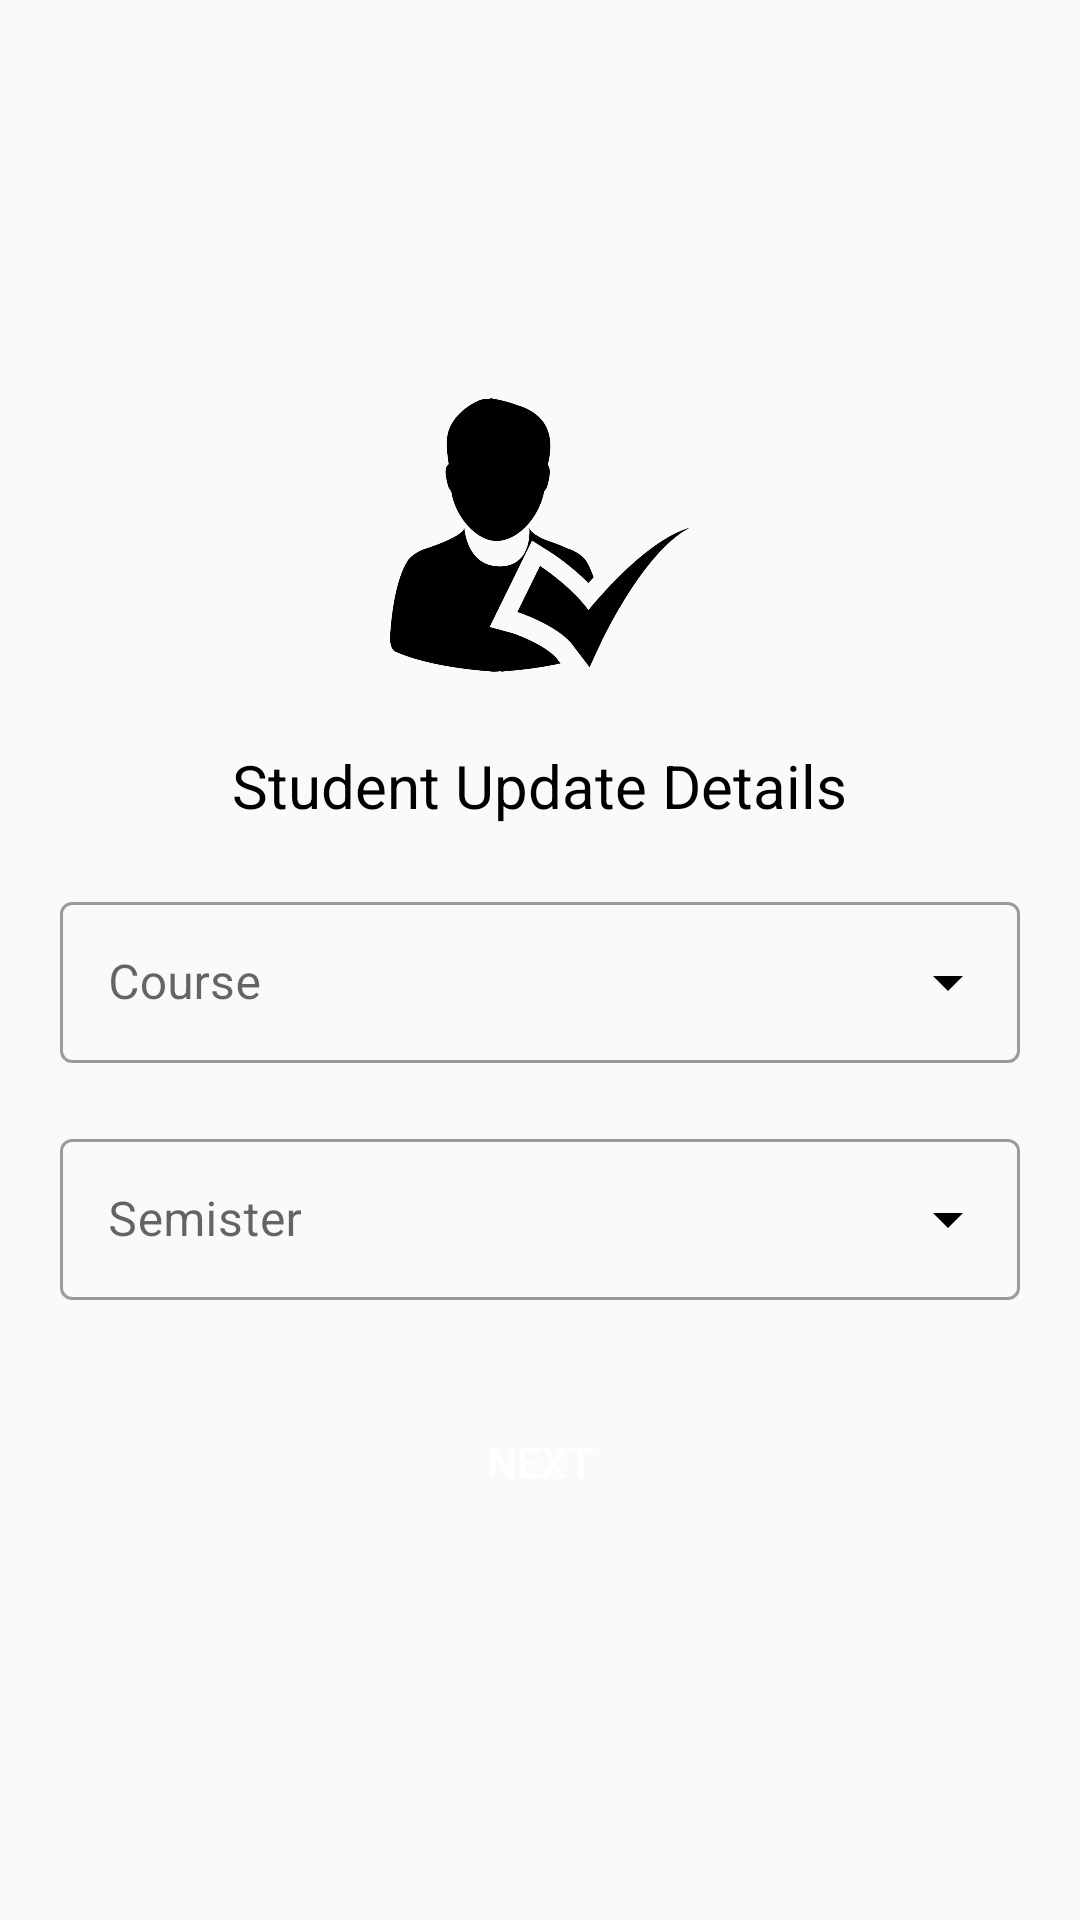

Icon bounding boxes for this 1080w x 1920h phone screenshot, format BBox(x1, y1, x2, y2):
attendance: BBox(390, 398, 689, 672)
